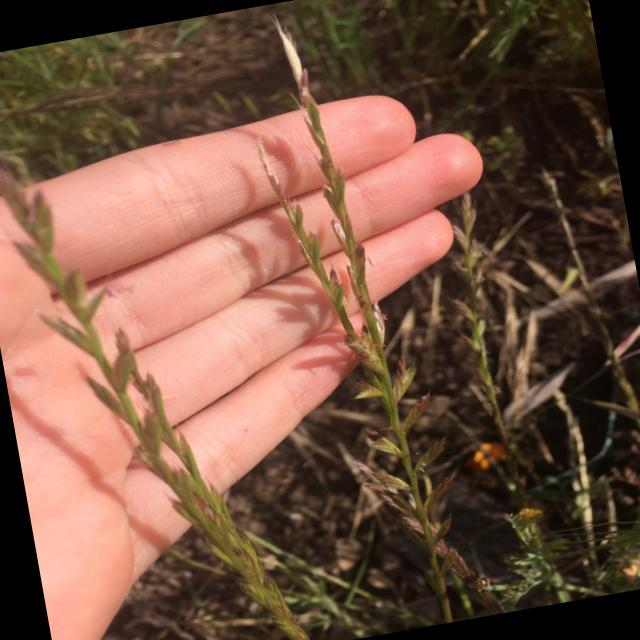Lolium: (0, 24, 317, 640), (229, 0, 505, 639)
